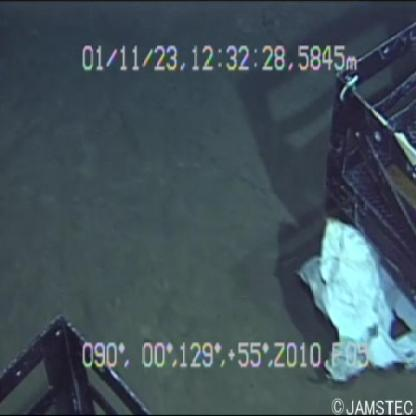Rov: (326, 8, 416, 317), (1, 292, 165, 416)
Rác: (281, 200, 416, 383)
